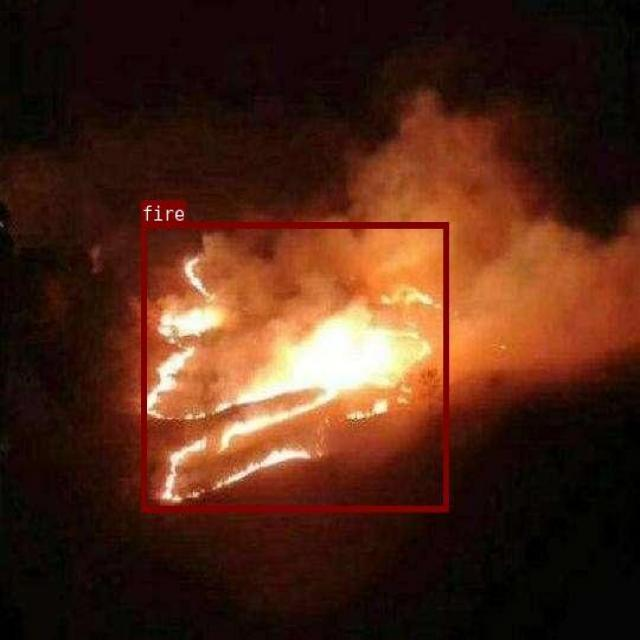fire: (141, 221, 447, 510)
